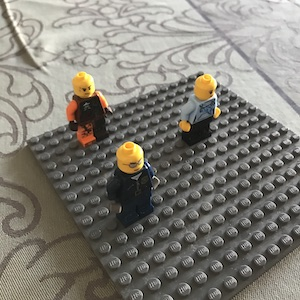Lego: (106, 142, 158, 222), (63, 71, 116, 146), (176, 74, 221, 142)
